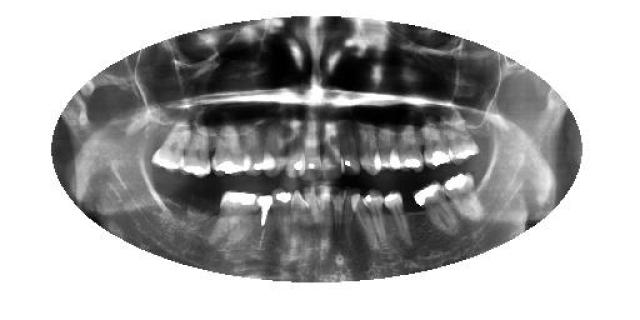Fillings: (215, 190, 259, 248), (414, 181, 456, 234), (444, 108, 481, 164), (211, 124, 249, 178), (444, 172, 485, 222), (384, 189, 415, 249), (181, 125, 214, 179), (421, 116, 451, 169), (272, 188, 294, 254), (399, 121, 425, 171)
Implant: (255, 194, 275, 238)
